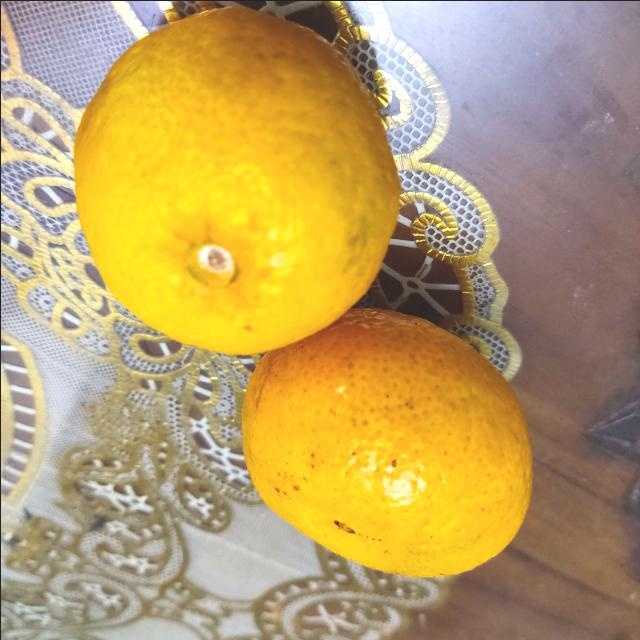agrume: (70, 11, 400, 358), (240, 301, 535, 578)
